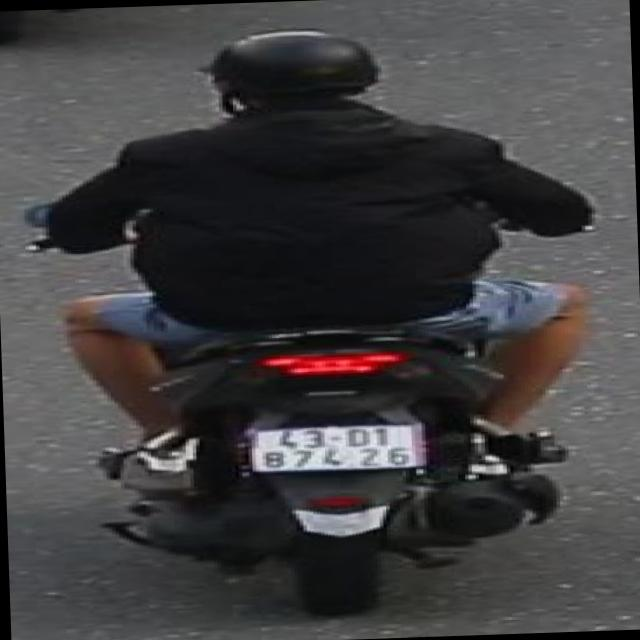LP: (246, 416, 432, 476)
helmet: (195, 23, 390, 132)
